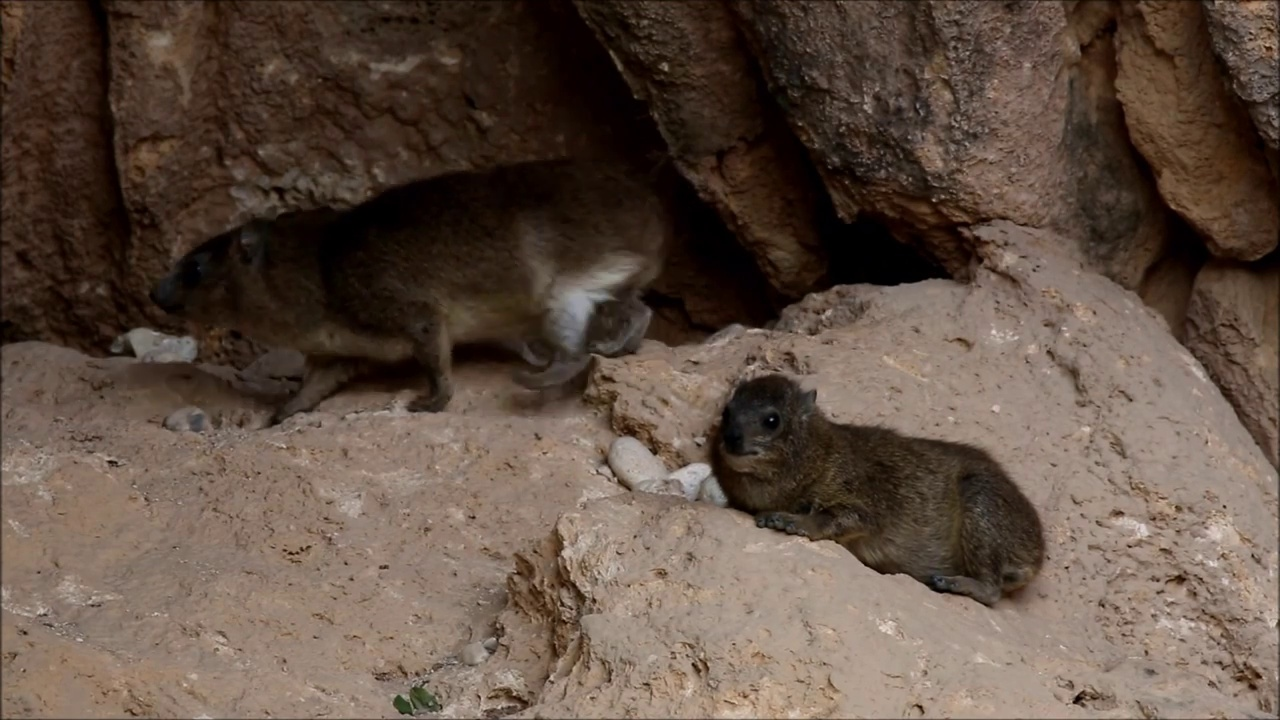Rock Hyrex: (142, 156, 675, 438), (704, 372, 1048, 610)
